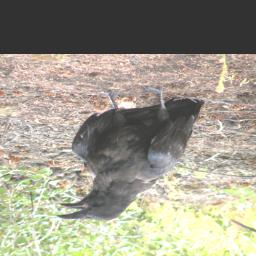Crow: (55, 84, 207, 222)
